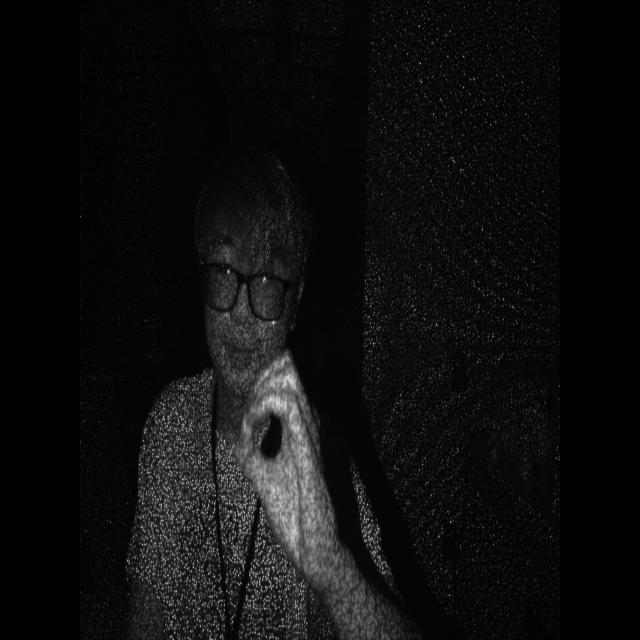O: (233, 337, 342, 546)
